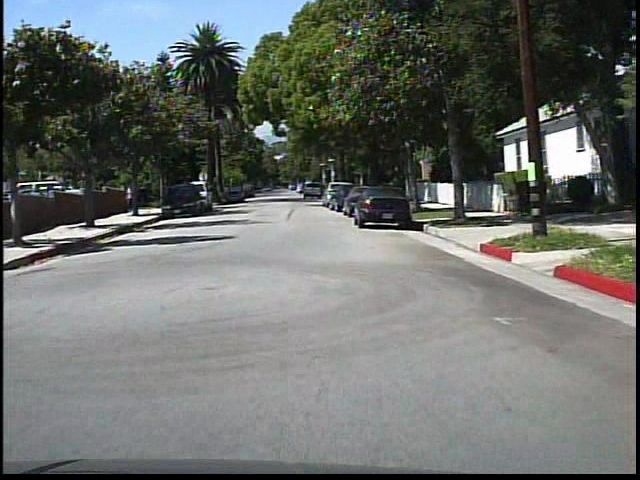person: (125, 181, 140, 215)
